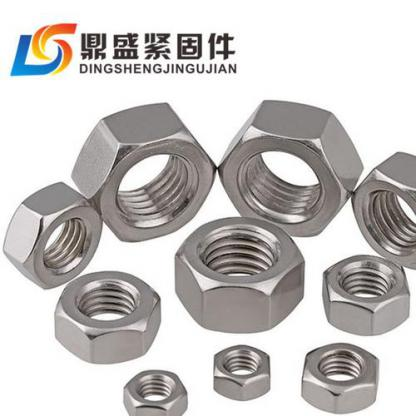FOD: (70, 100, 218, 244), (218, 98, 364, 240), (172, 215, 306, 332), (0, 180, 108, 293), (52, 267, 162, 365), (349, 149, 415, 274), (317, 253, 413, 337), (300, 341, 382, 415), (210, 341, 273, 404), (119, 366, 192, 415)
